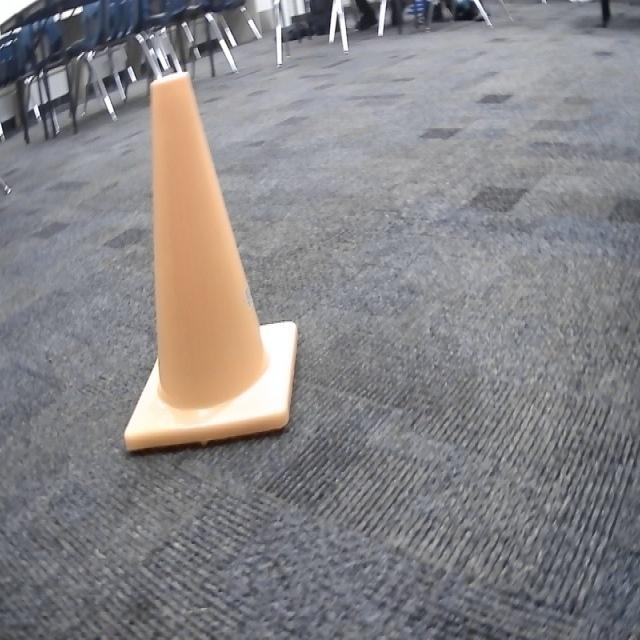cone: (118, 70, 302, 457)
